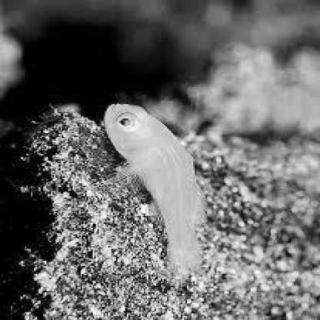other: (108, 90, 210, 290)
